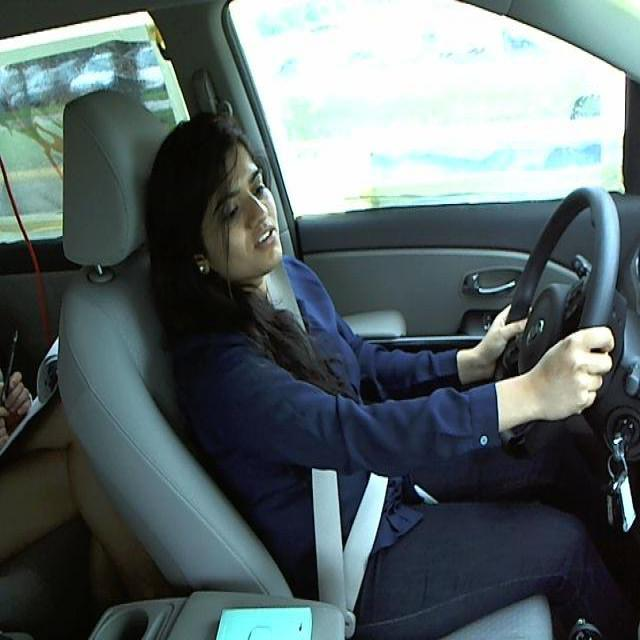seatbelt: (283, 278, 385, 602)
